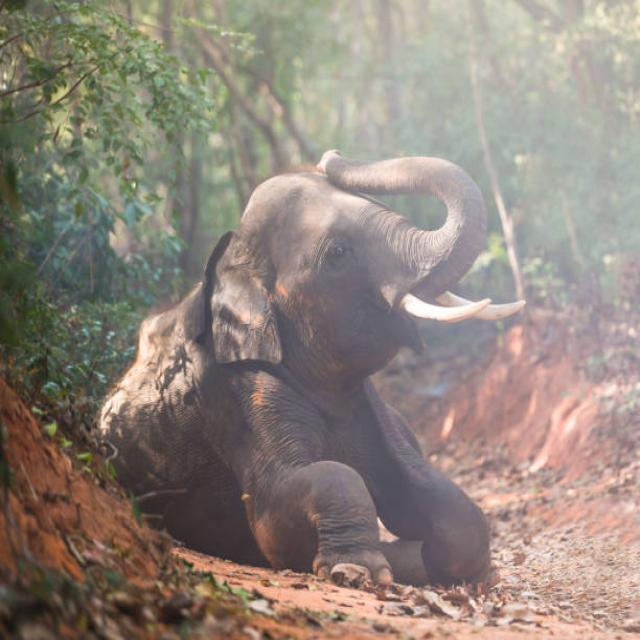Elephant: (96, 136, 559, 616)
